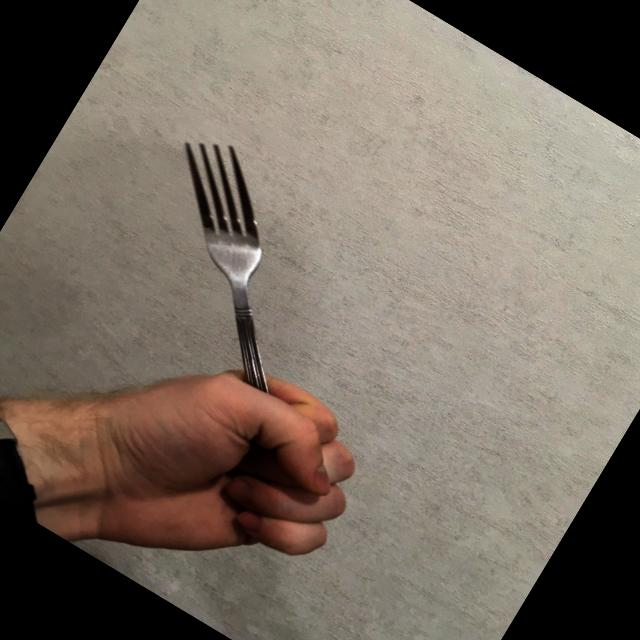fork: (44, 124, 407, 503)
